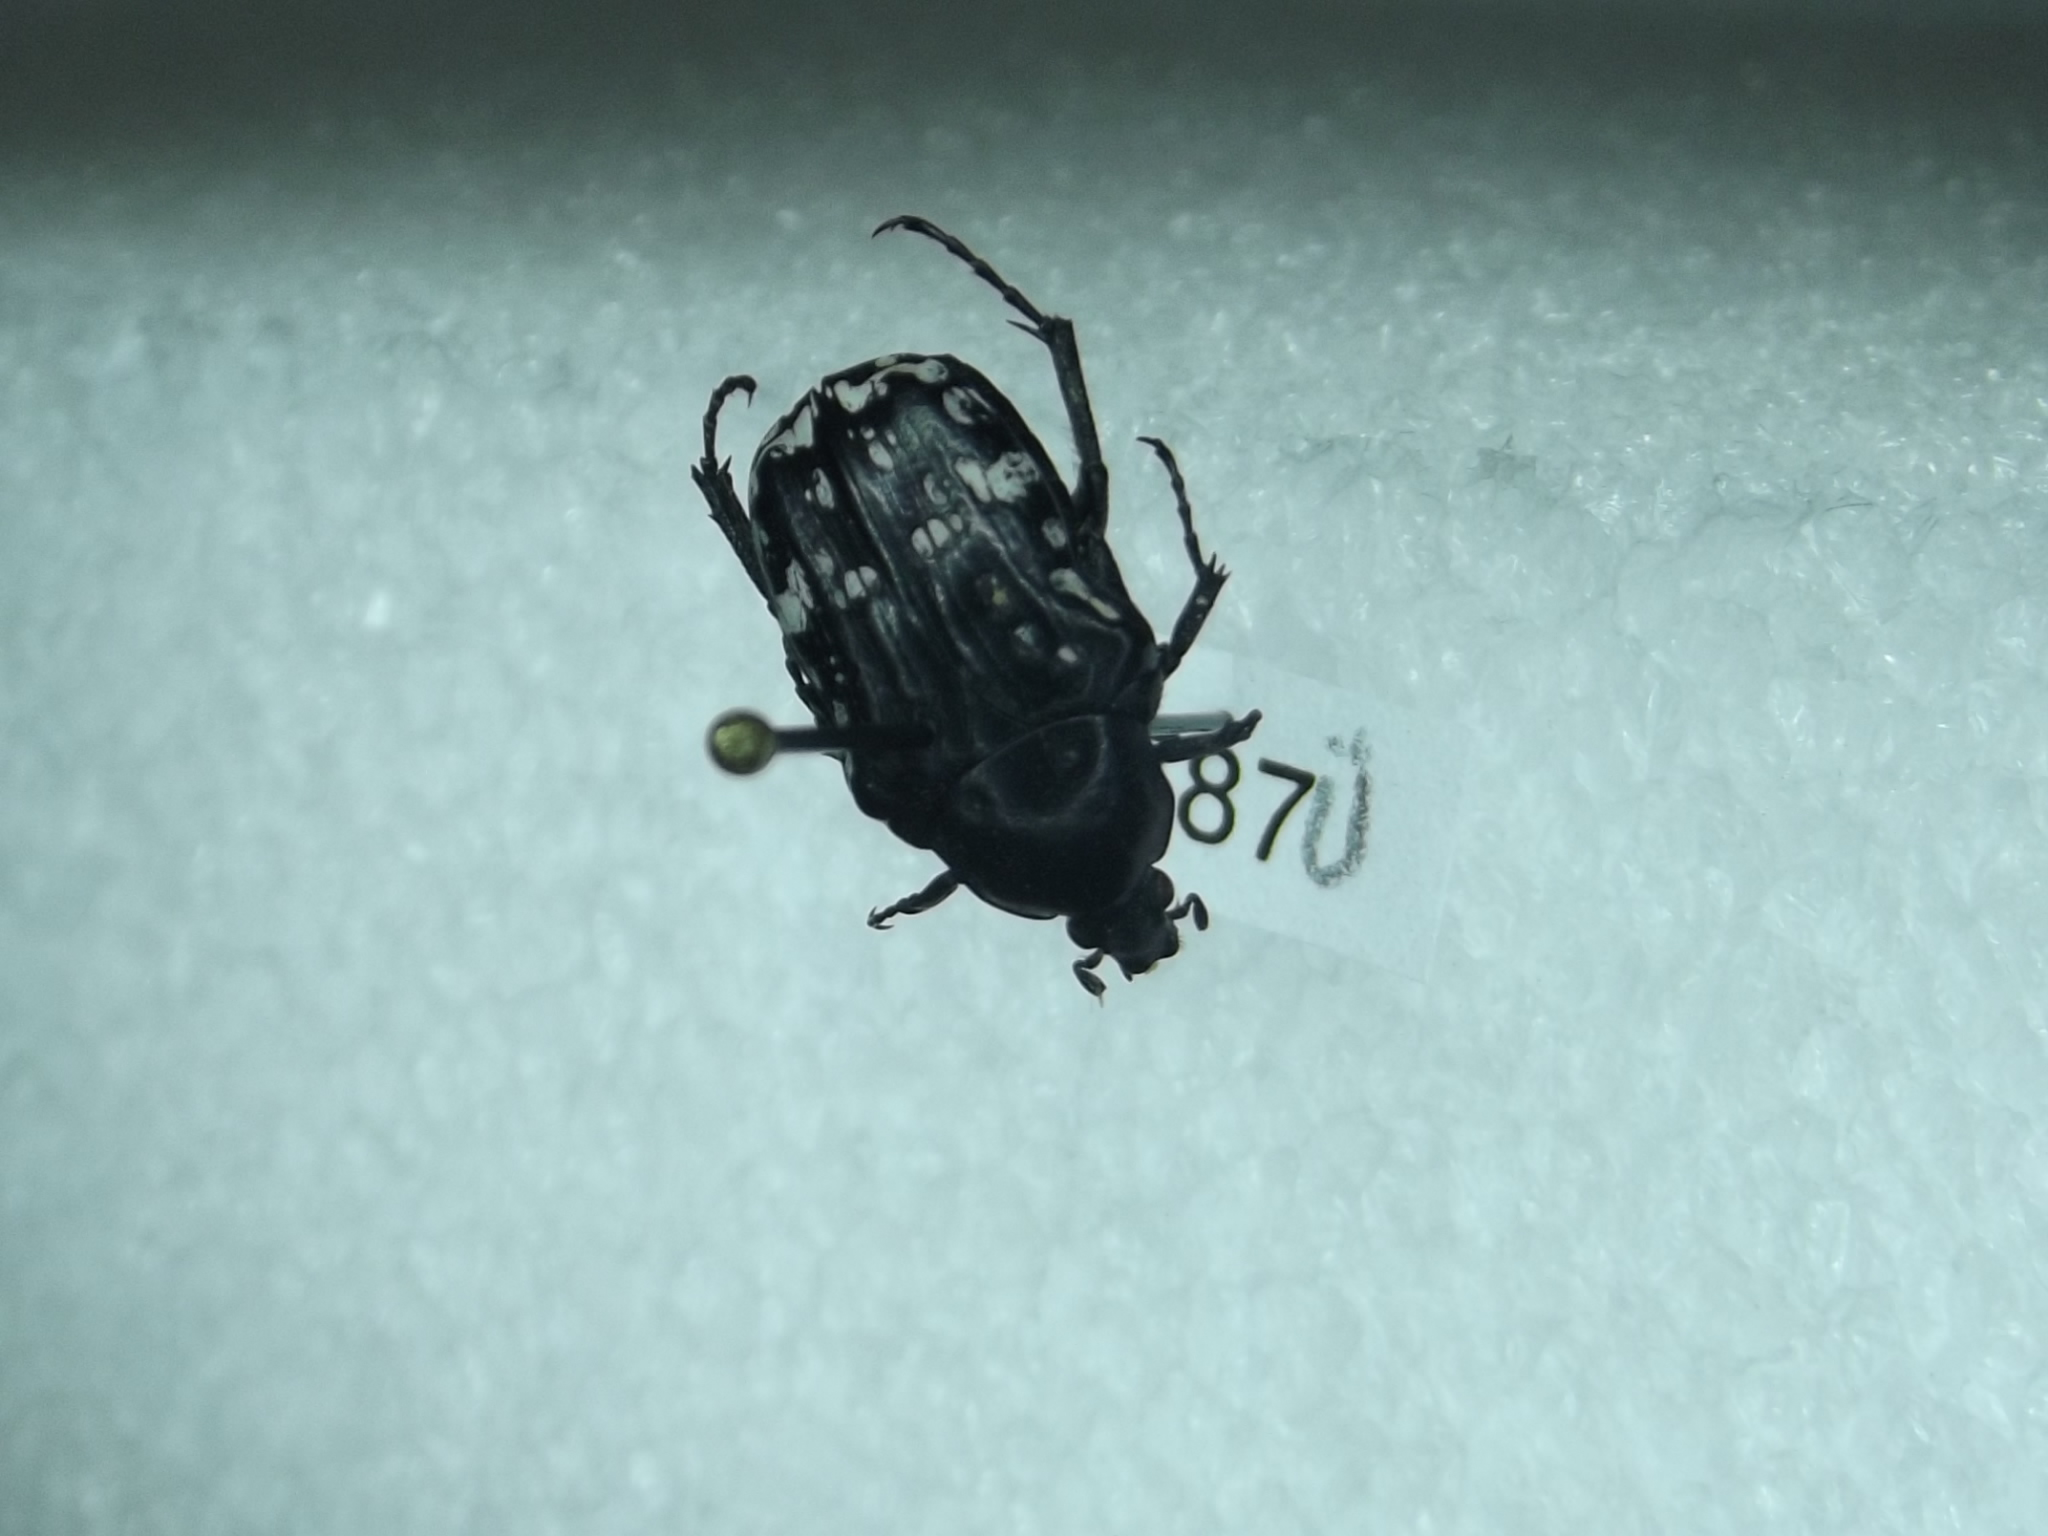Oxythyrea_albopicta: (664, 198, 1288, 1000)
